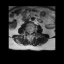CCS_normal: (29, 30, 30, 36)
LFS_stenosis: (32, 29, 33, 34)
LLS_stenosis: (30, 30, 32, 35)
RFS_stenosis: (26, 29, 28, 33)
RLS_stenosis: (28, 30, 29, 35)
